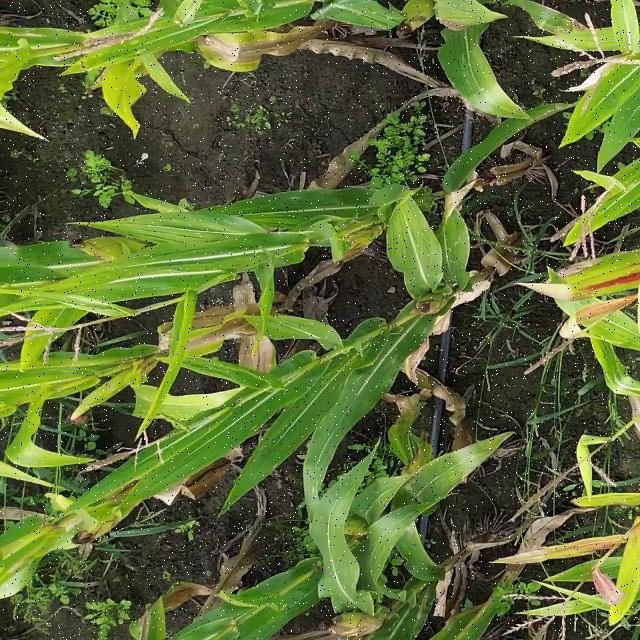gray-leaf-spot: (439, 442, 483, 488), (322, 493, 355, 535), (372, 534, 396, 576), (302, 468, 331, 496), (1, 27, 48, 44)
northern-leaf-blight: (200, 33, 286, 73), (131, 608, 169, 640), (417, 588, 441, 622)
